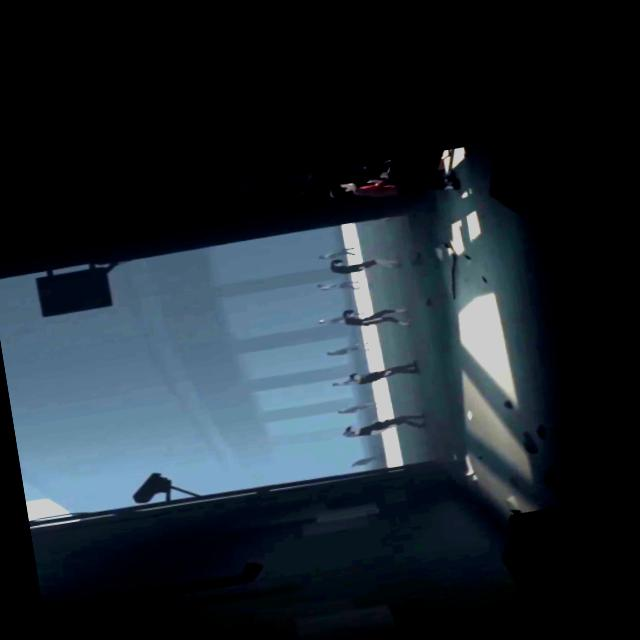boy: (324, 151, 463, 211)
zombie: (343, 412, 427, 442), (340, 302, 409, 334), (328, 250, 402, 278), (348, 362, 420, 389), (324, 340, 370, 358), (315, 279, 358, 295), (335, 400, 376, 416), (346, 454, 384, 469), (318, 249, 354, 262), (316, 316, 342, 327), (330, 377, 350, 388)
